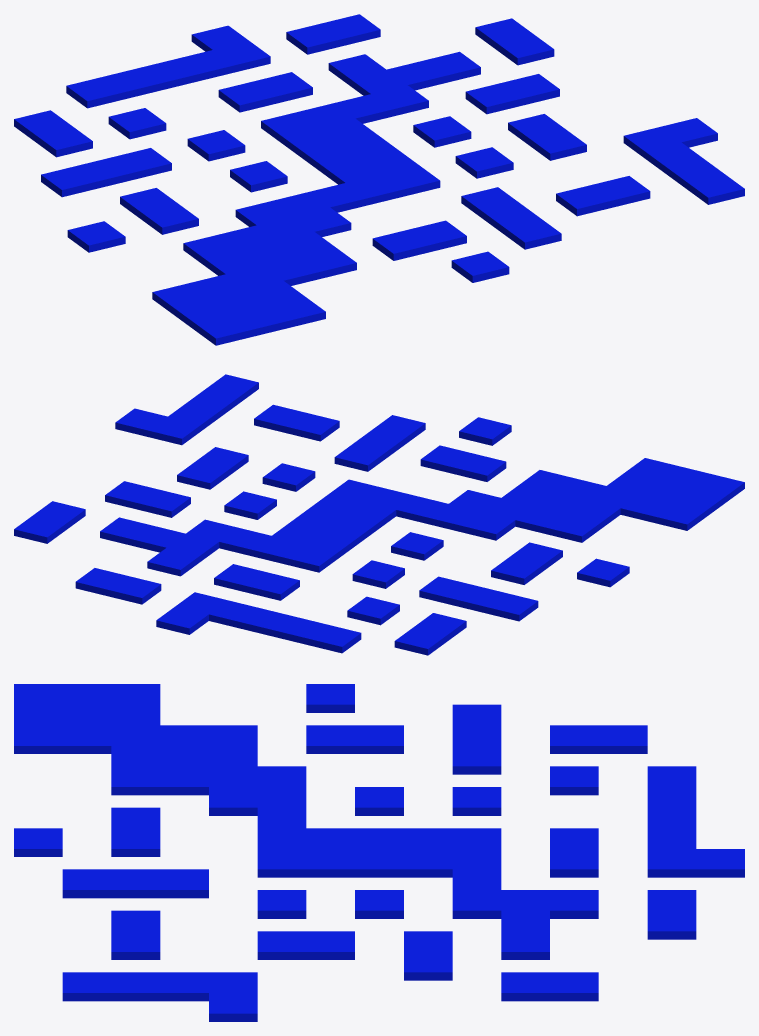
File: st_level_02.FBX
3 views of the same model, one above another, from view 1: azimuth 30°, elevation 25°; view 2: azimuth 150°, elevation 25°; view 3: azimuth 270°, elevation 25° (orthographic). The views are drawn at different scales.
Visible parts, largest first — view 1: st_modules_067; view 2: st_modules_067; view 3: st_modules_067.
Part boxes in pixels (x1=…): st_modules_067: x1=14, y1=14, x2=744, y2=345; st_modules_067: x1=14, y1=374, x2=744, y2=655; st_modules_067: x1=14, y1=684, x2=744, y2=1021.
Bounding box in the file's own units: 2560 × 30 × 2400.
